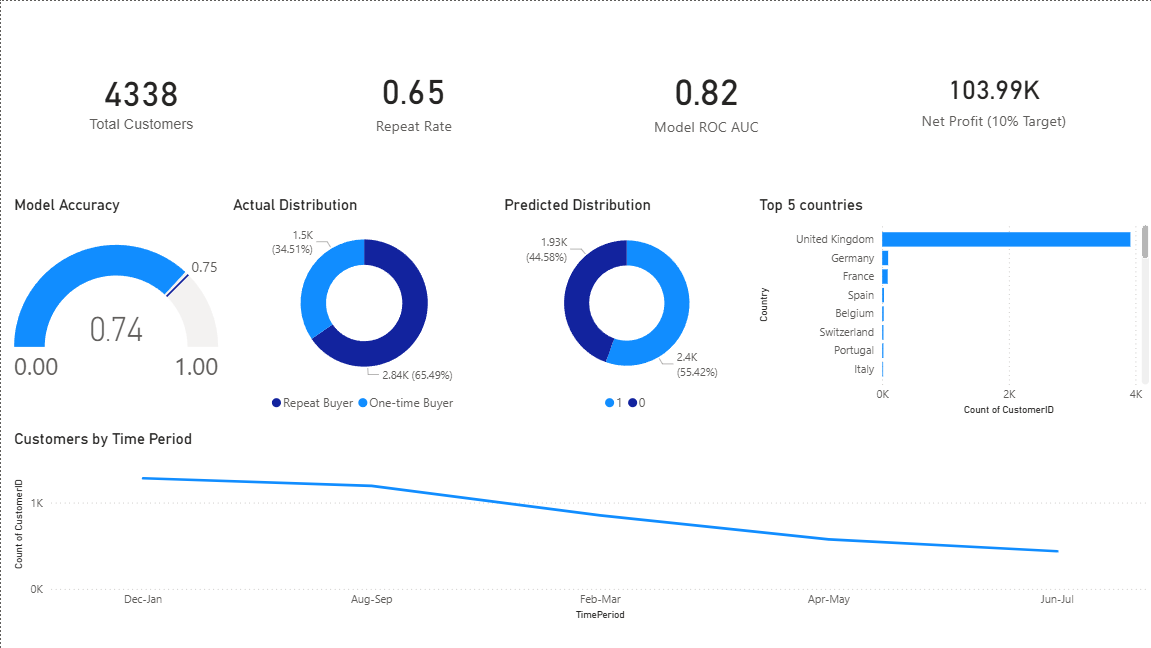

The page's visual inventory and layout, read from the dashboard file:
{"tool":"powerbi","page":{"name":"Dashboard ","canvas":[1280,720],"ordinal":0},"visuals":[{"type":"card","fields":{"Values":["powerbi_business_scenarios.Total Customers"]},"box":[34.3,0,242.9,216.8],"z":0},{"type":"card","fields":{"Values":["powerbi_business_scenarios.Repeat Rate"]},"box":[337.6,0,242.9,216.8],"z":1000},{"type":"card","fields":{"Values":["powerbi_business_scenarios.ROC AUC"]},"box":[662.8,0,242.9,216.8],"z":2000},{"type":"card","fields":{"Values":["powerbi_business_scenarios.Net Profit"]},"box":[982.5,0,242.9,216.8],"z":3000},{"type":"gauge","fields":{"Y":["powerbi_business_scenarios.Model Accuracy"]},"box":[9.6,216.8,242.9,248.4],"z":4000},{"type":"donutChart","title":"Actual Distribution","fields":{"Category":["powerbi_customers.ActualLabel_Text"],"Y":["CountNonNull(powerbi_customers.CustomerID)"]},"box":[252.5,216.8,301.9,248.4],"z":5000},{"type":"donutChart","title":"Predicted Distribution","fields":{"Category":["powerbi_customers.PredictedLabel"],"Y":["CountNonNull(powerbi_customers.CustomerID)"]},"box":[554.4,216.8,282.7,248.4],"z":6000},{"type":"clusteredBarChart","title":"Top 5 countries","fields":{"Category":["powerbi_customers.Country"],"Y":["CountNonNull(powerbi_customers.CustomerID)"]},"box":[837.1,216.8,443.2,248.4],"z":7000},{"type":"lineChart","title":"Customers by Time Period","fields":{"Category":["powerbi_customers.TimePeriod"],"Y":["CountNonNull(powerbi_customers.CustomerID)"]},"box":[9.6,476.2,1270.7,216.8],"z":8000}]}

Visuals, with their boxes in screenshot pixels (x1, y1, x2, y2), scaled from the page's 1280x720 canvas onto the 1151x648 screenshot:
card - powerbi_business_scenarios.Total Customers: (31,0,249,195)
card - powerbi_business_scenarios.Repeat Rate: (304,0,522,195)
card - powerbi_business_scenarios.ROC AUC: (596,0,814,195)
card - powerbi_business_scenarios.Net Profit: (883,0,1102,195)
gauge - powerbi_business_scenarios.Model Accuracy: (9,195,227,419)
"Actual Distribution" donutChart: (227,195,499,419)
"Predicted Distribution" donutChart: (499,195,753,419)
"Top 5 countries" clusteredBarChart: (753,195,1150,419)
"Customers by Time Period" lineChart: (9,429,1150,624)
